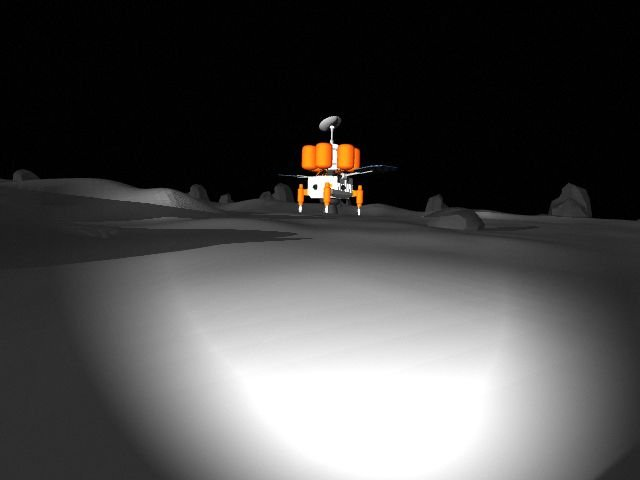homebase: (276, 114, 388, 217)
